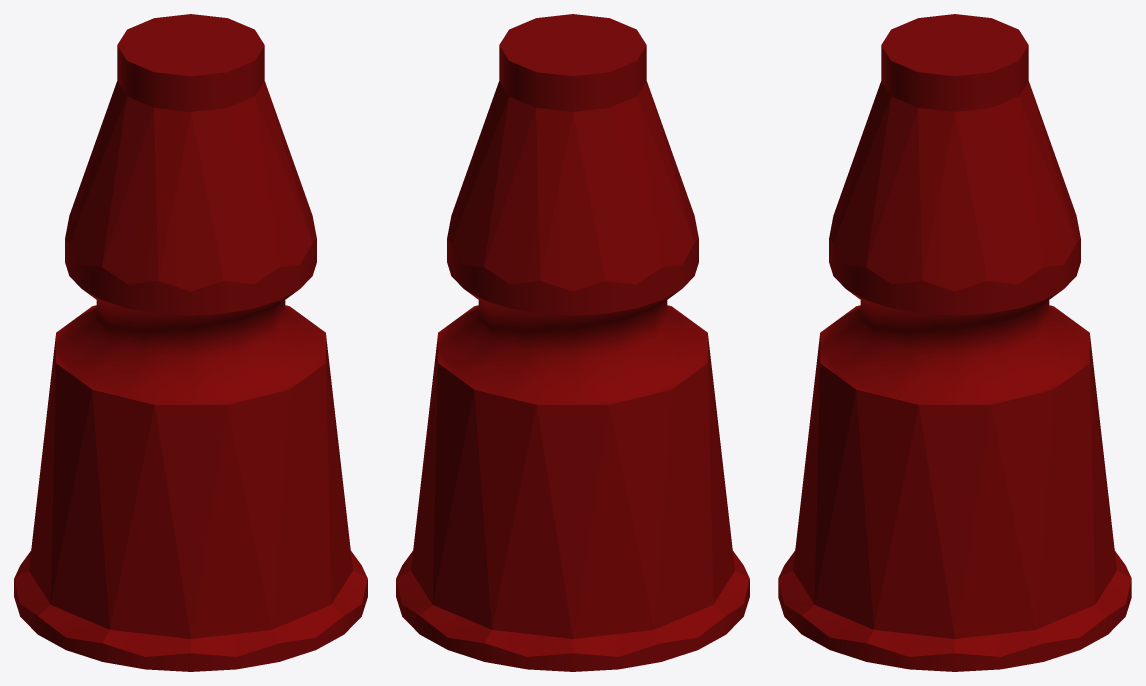
The model's file is PegPlasticT15.fbx.
3 renders of one model, left to right at view 1: azimuth 30°, elevation 25°; view 2: azimuth 150°, elevation 25°; view 3: azimuth 270°, elevation 25°, orthographic.
Visible parts, largest first — view 1: PegPlasticT15; view 2: PegPlasticT15; view 3: PegPlasticT15.
Part boxes in pixels (bbox=[...]): PegPlasticT15: bbox=[14, 14, 367, 671]; PegPlasticT15: bbox=[396, 14, 749, 671]; PegPlasticT15: bbox=[778, 14, 1131, 671].
Size of the model in its own units: 1.85 by 3.18 by 1.85.
